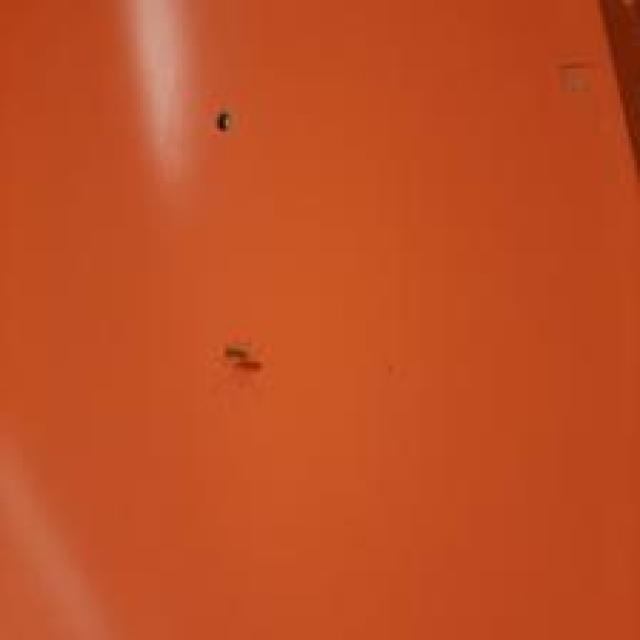Culex: (222, 337, 262, 372)
